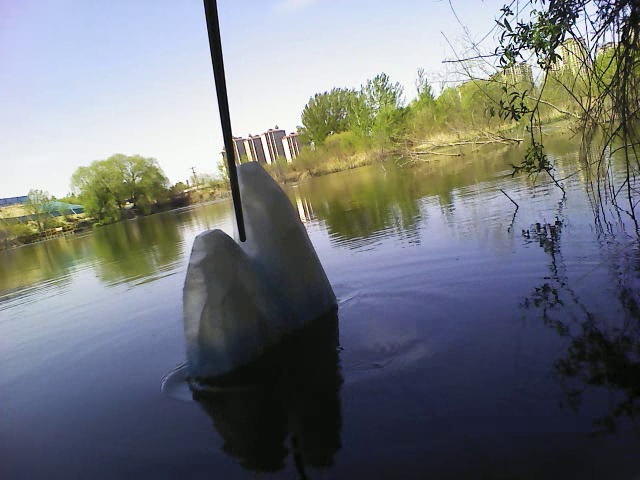iceberg: (181, 155, 337, 375)
